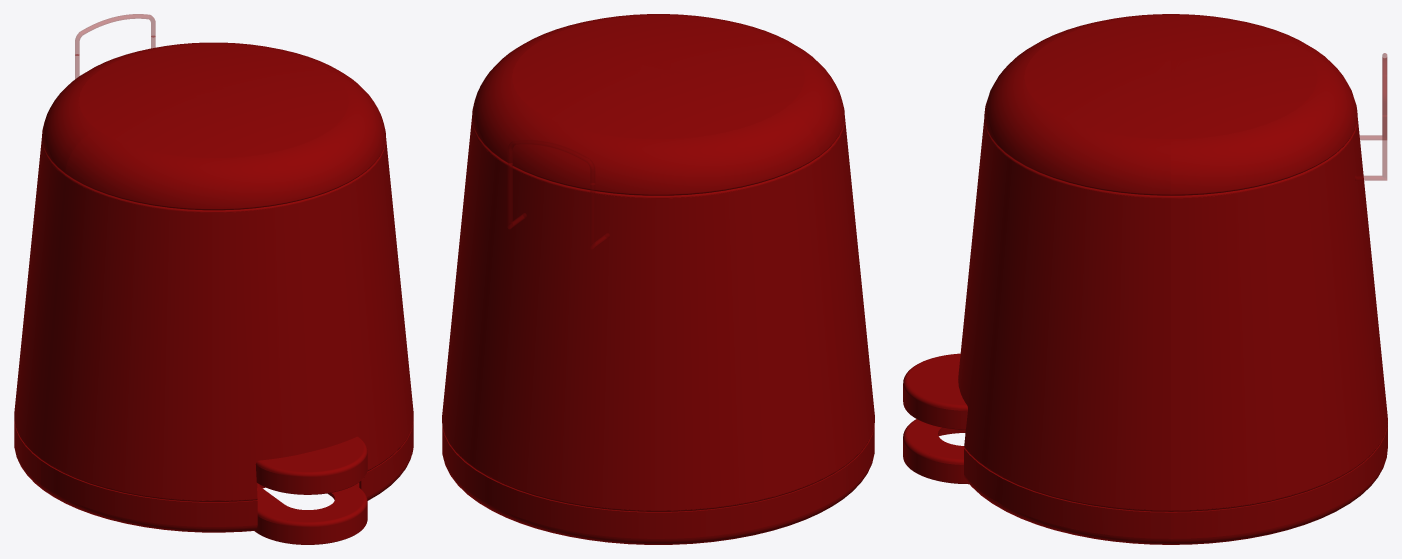
The model's file is snapp.glb.
The picture shows the model from 3 angles, left to right: view 1: azimuth 30°, elevation 25°; view 2: azimuth 150°, elevation 25°; view 3: azimuth 270°, elevation 25°; orthographic projection. The views are drawn at different scales.
Parts seen in each view (by area): view 1: IKE160067; view 2: IKE160067; view 3: IKE160067.
Boxes of the visible parts, x1=… form: IKE160067: x1=14, y1=14, x2=413, y2=544; IKE160067: x1=442, y1=14, x2=874, y2=544; IKE160067: x1=903, y1=14, x2=1387, y2=544.
Bounding box in the file's own units: 0.2 × 0.2 × 0.224.
Materials: 2 (2 with a texture image).
